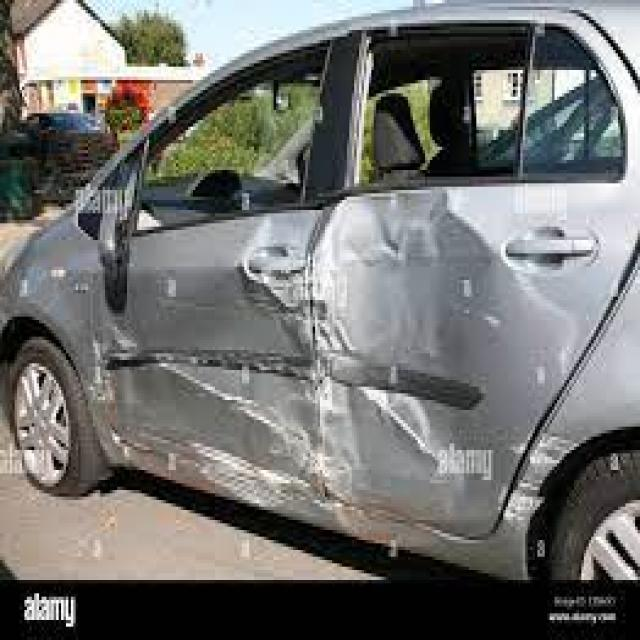car damage: (311, 192, 494, 373), (109, 369, 316, 484), (92, 348, 165, 371)
